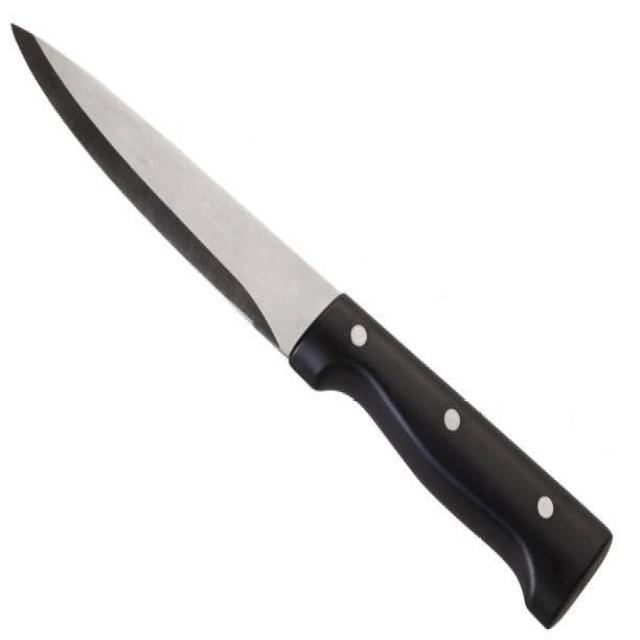knife: (9, 15, 619, 638)
